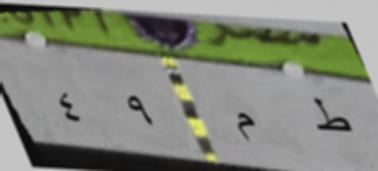4: (49, 84, 94, 132)
9: (119, 92, 160, 134)
Taa: (308, 96, 354, 144)
meem: (225, 106, 267, 142)
